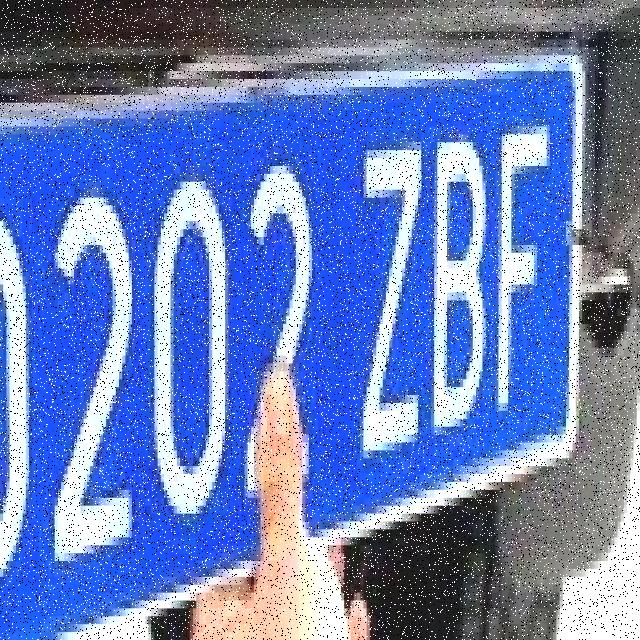licenseplate: (4, 36, 592, 640)
